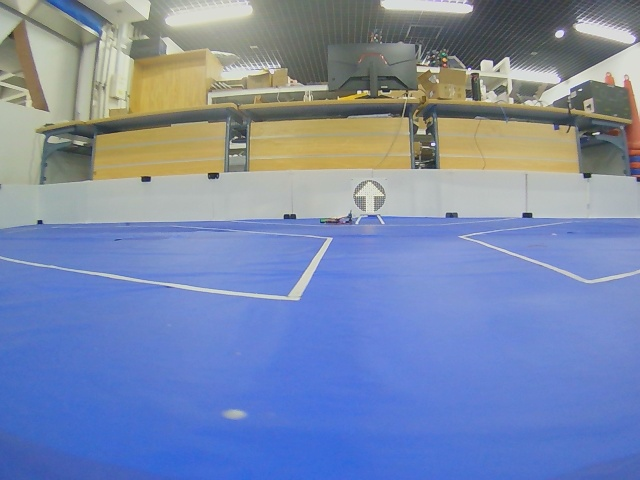straight_yellow: (353, 180, 386, 214)
